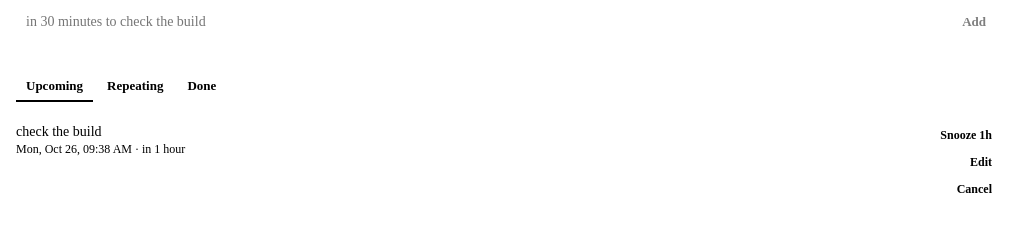
Test: RemindersSidebar › row actions › reports what the server refused and leaves the row in place
Check: the text "check the build" is shown, box left=16, top=124, right=102, bottom=139
What coordinates should you click on to do the following:
click the button "Cancel"
I would click on:
 (974, 190)
Its box is left=949, top=178, right=1000, bottom=201.
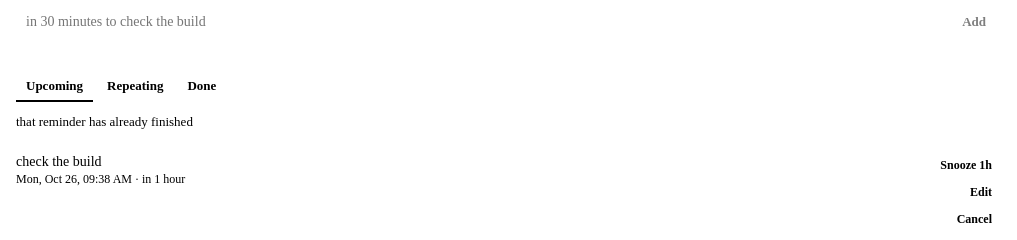
Check: the text "check the build" is shown, box left=16, top=154, right=102, bottom=169
Check: the message reads "that reminder has already finished", box left=16, top=114, right=193, bottom=129
